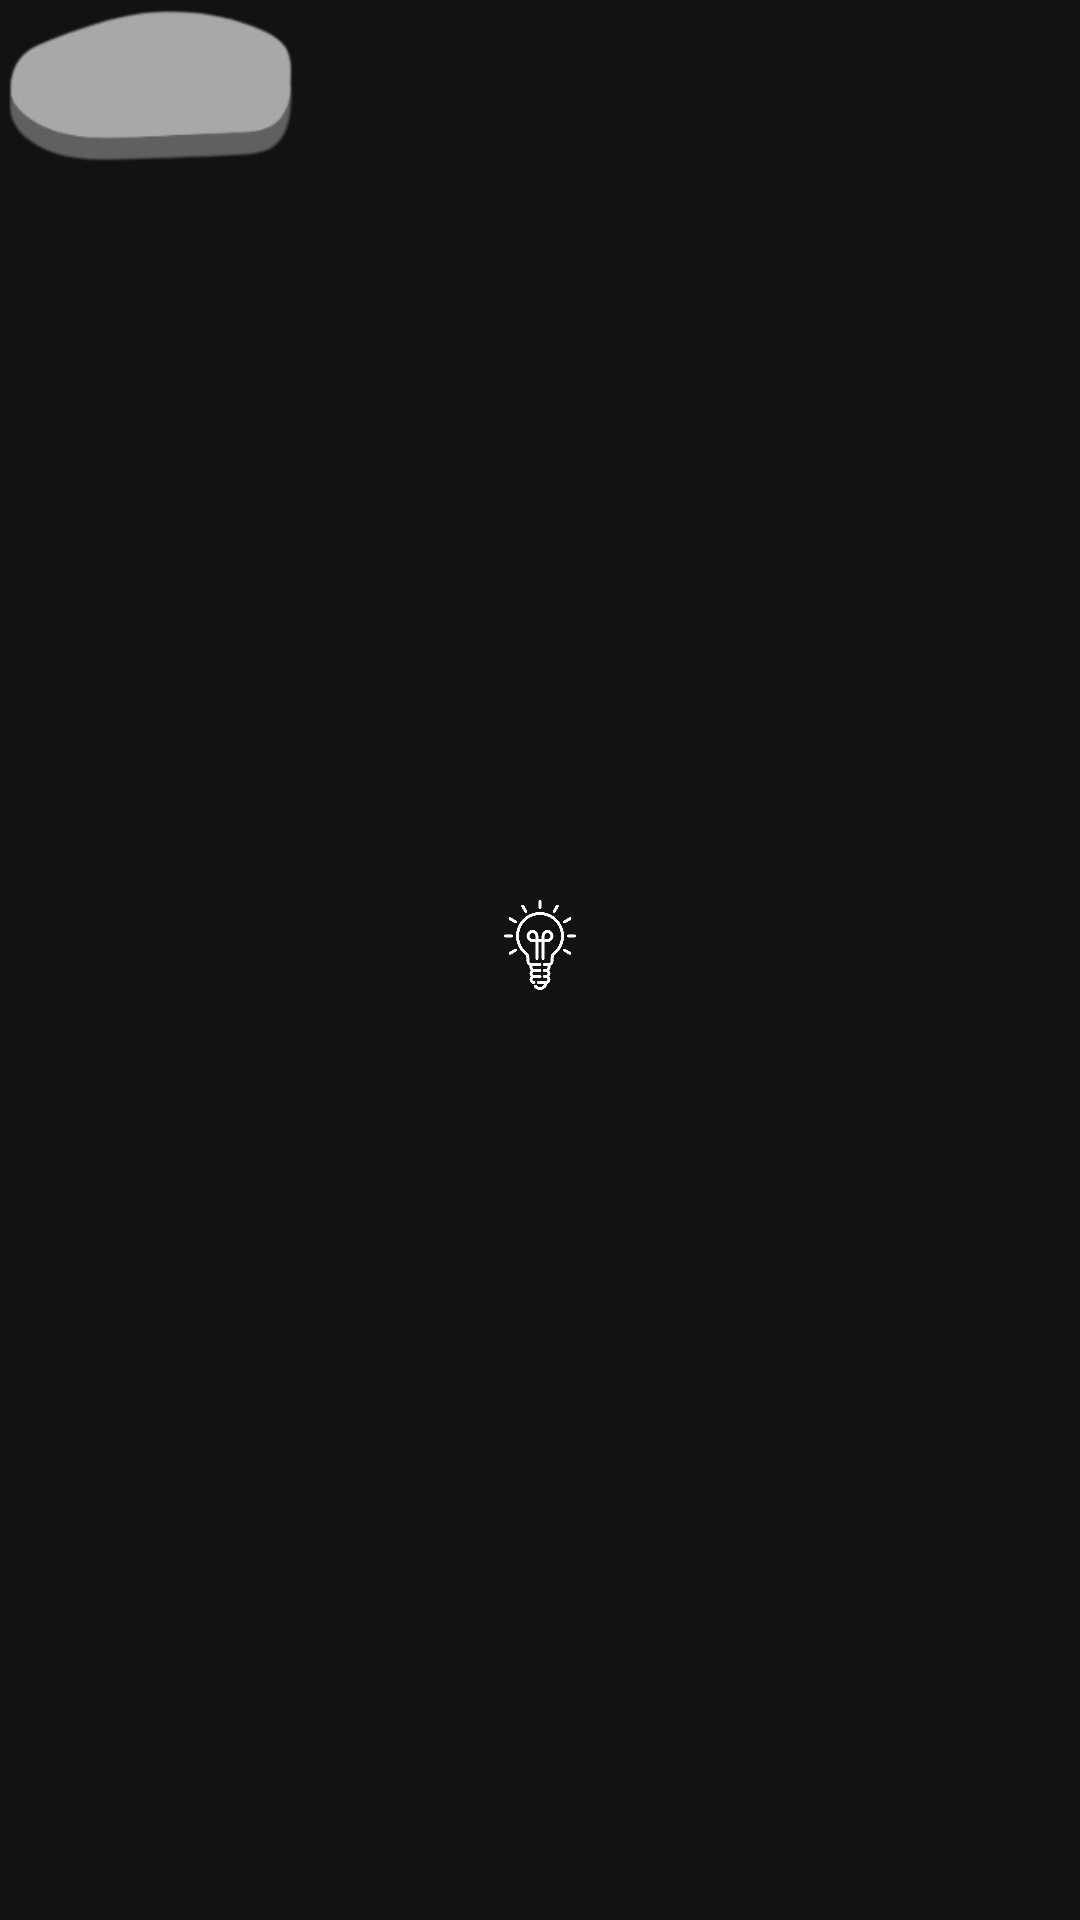

Where icons sit on this 1080w x 1920h app screen, as (x1, y1, x2, y2):
bulb: (504, 900, 576, 990)
stone: (9, 11, 292, 160)
